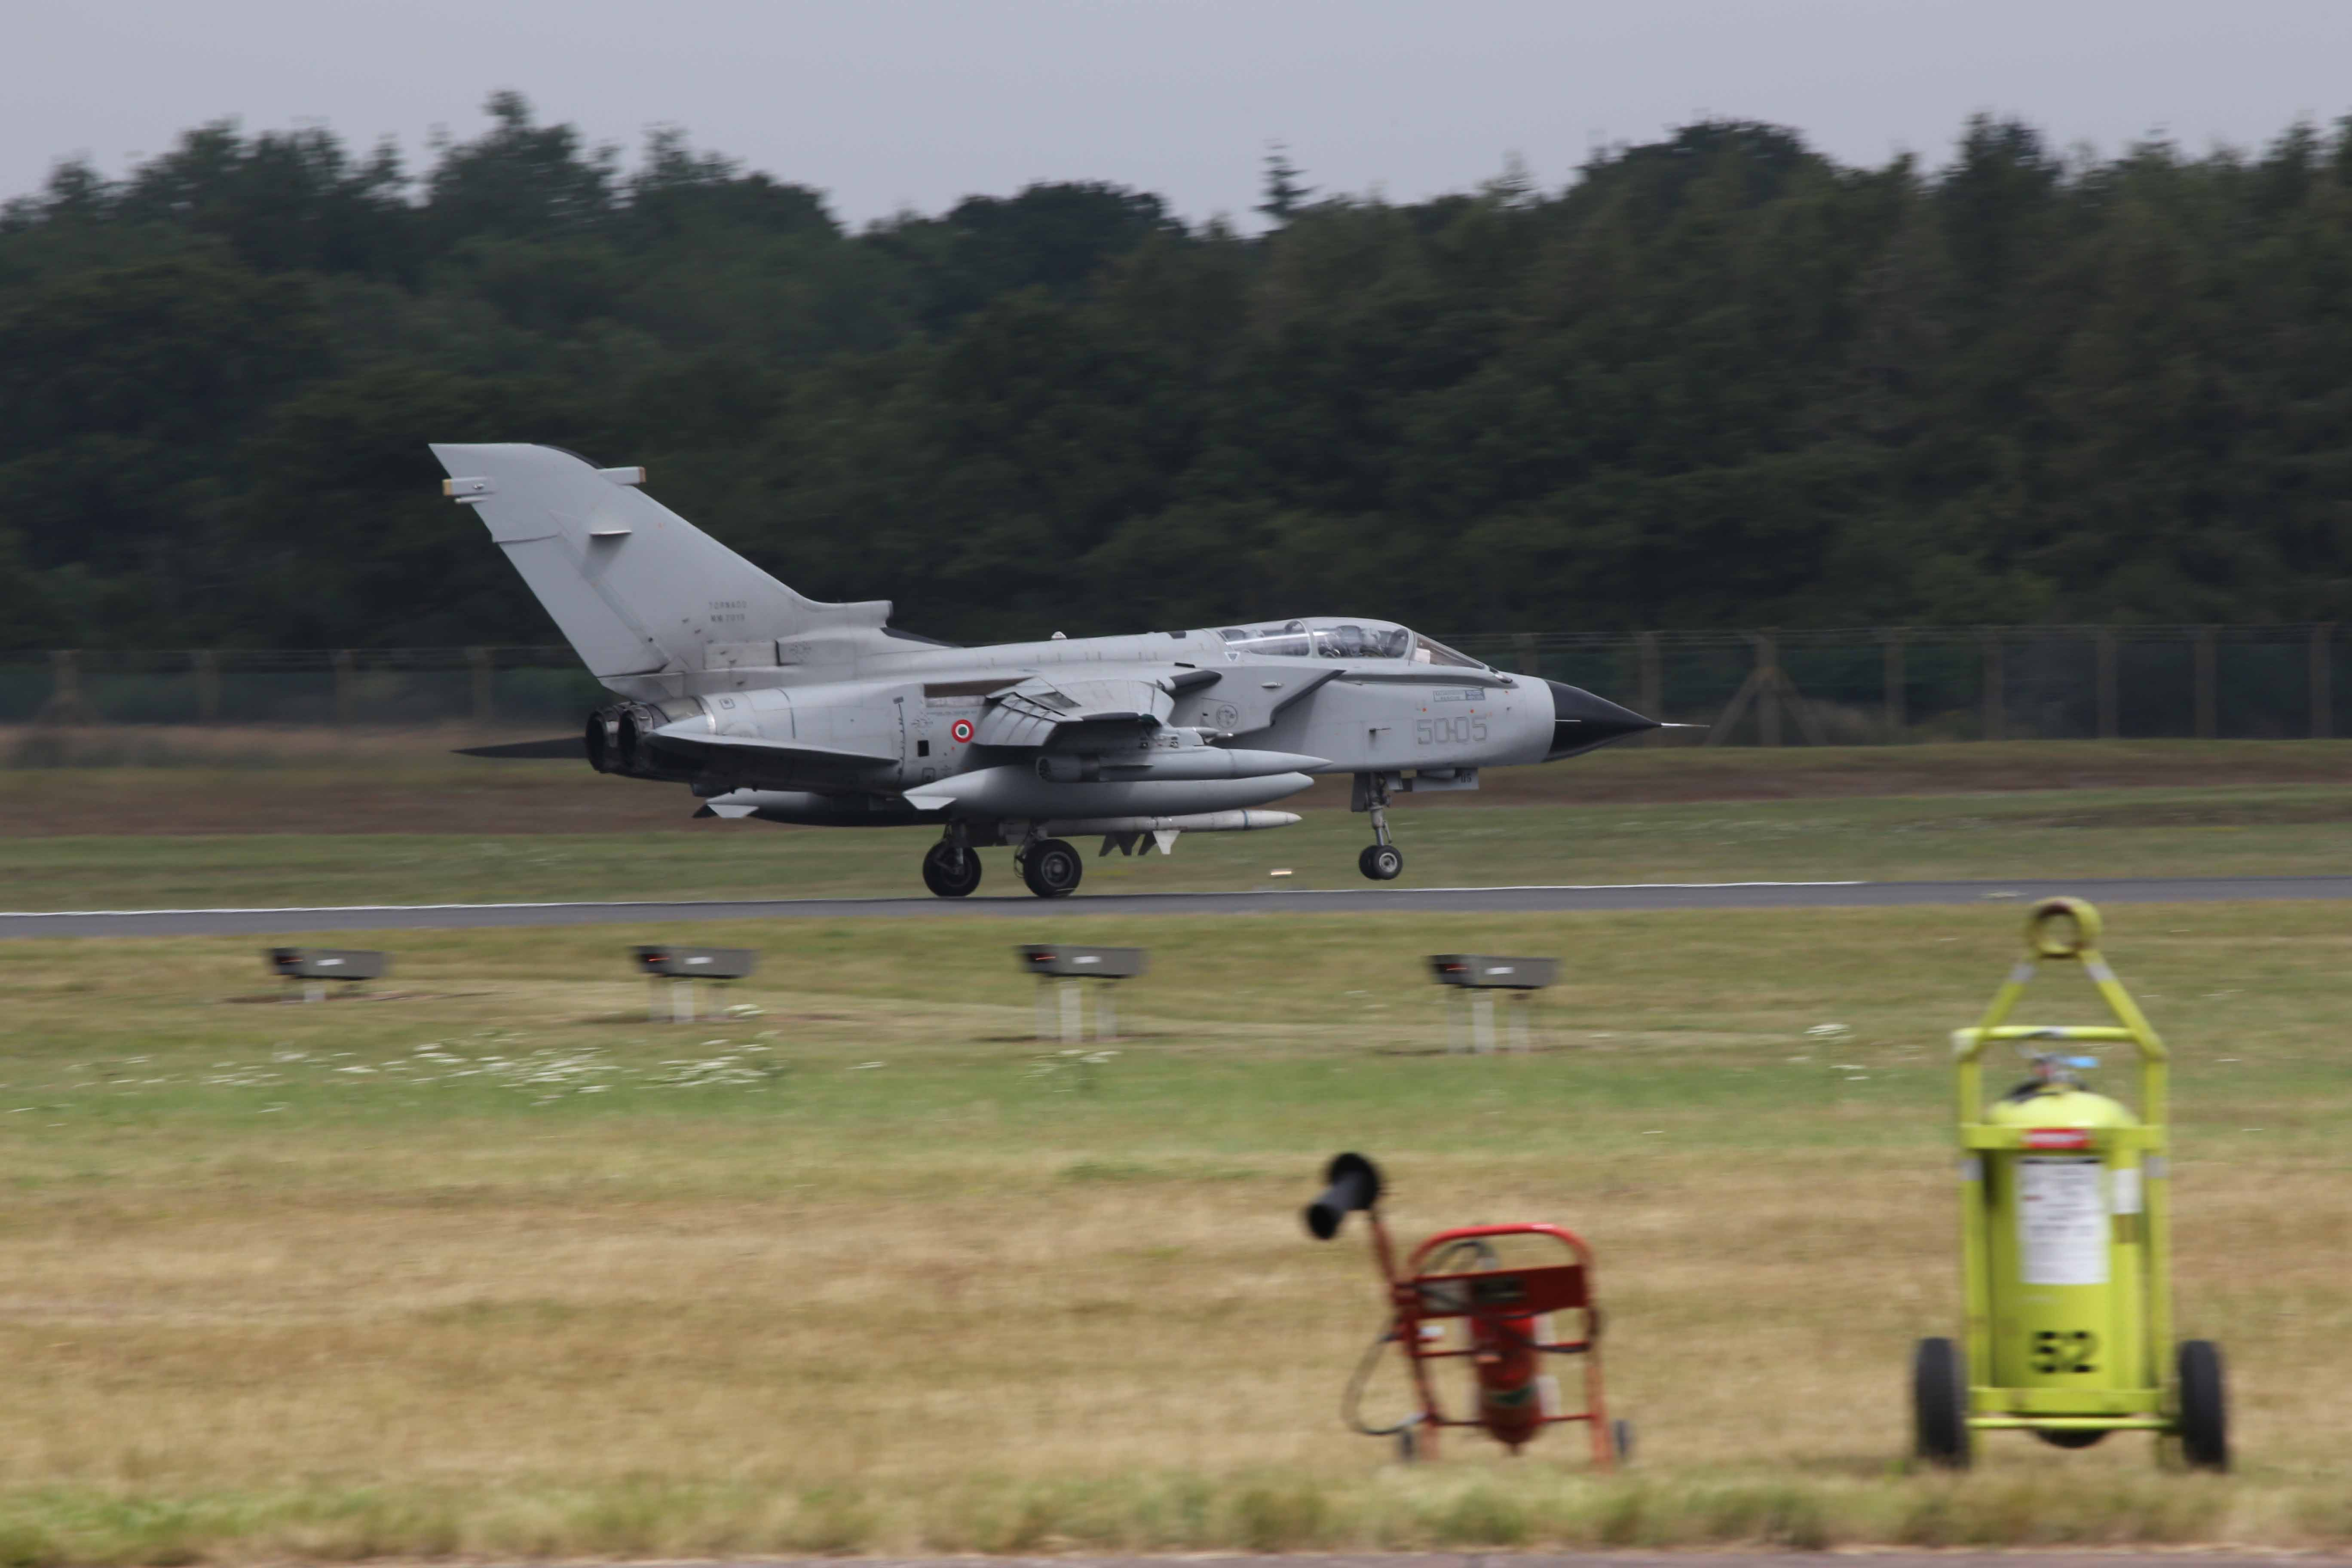Tornado: (427, 443, 1710, 898)
